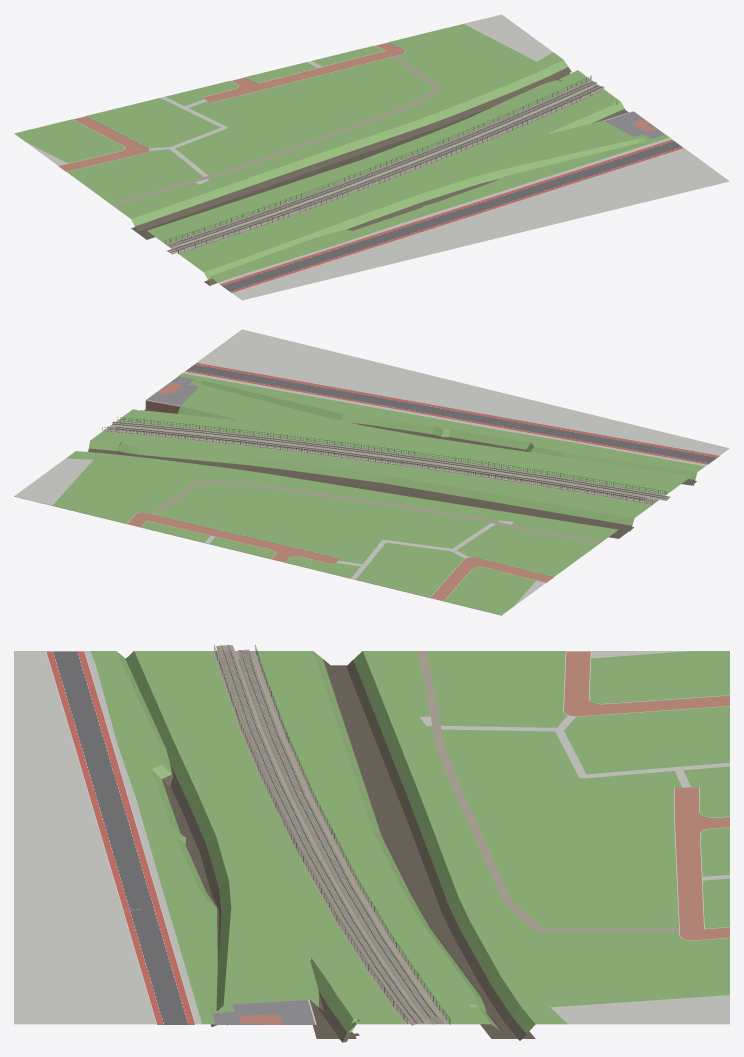
Rendered from ground_10_5.glb.
The picture shows the model from 3 angles, top to bottom: view 1: azimuth 30°, elevation 25°; view 2: azimuth 150°, elevation 25°; view 3: azimuth 270°, elevation 25°; orthographic projection. The views are drawn at different scales.
Parts seen in each view (by area): view 1: ground_10_5; view 2: ground_10_5; view 3: ground_10_5.
Boxes of the visible parts, x1=… form: ground_10_5: x1=14, y1=14, x2=729, y2=300; ground_10_5: x1=14, y1=329, x2=729, y2=615; ground_10_5: x1=14, y1=644, x2=729, y2=1042.
Size of the model in its own units: 205 by 5.17 by 162.
